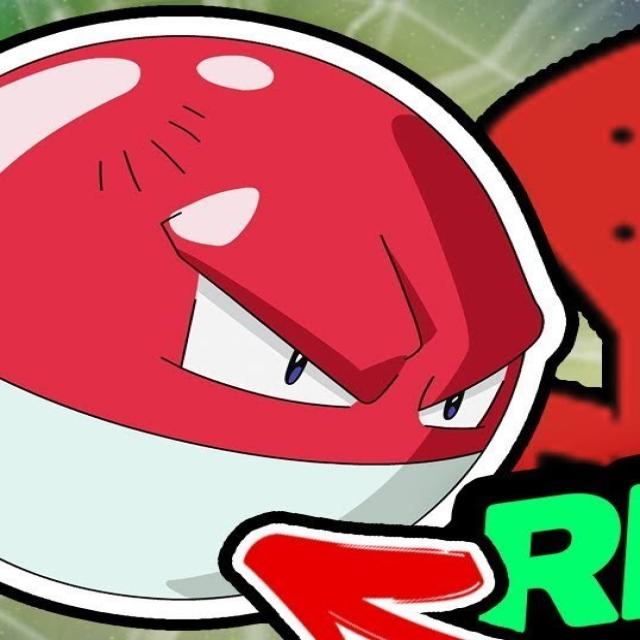Voltorb: (0, 7, 562, 588)
